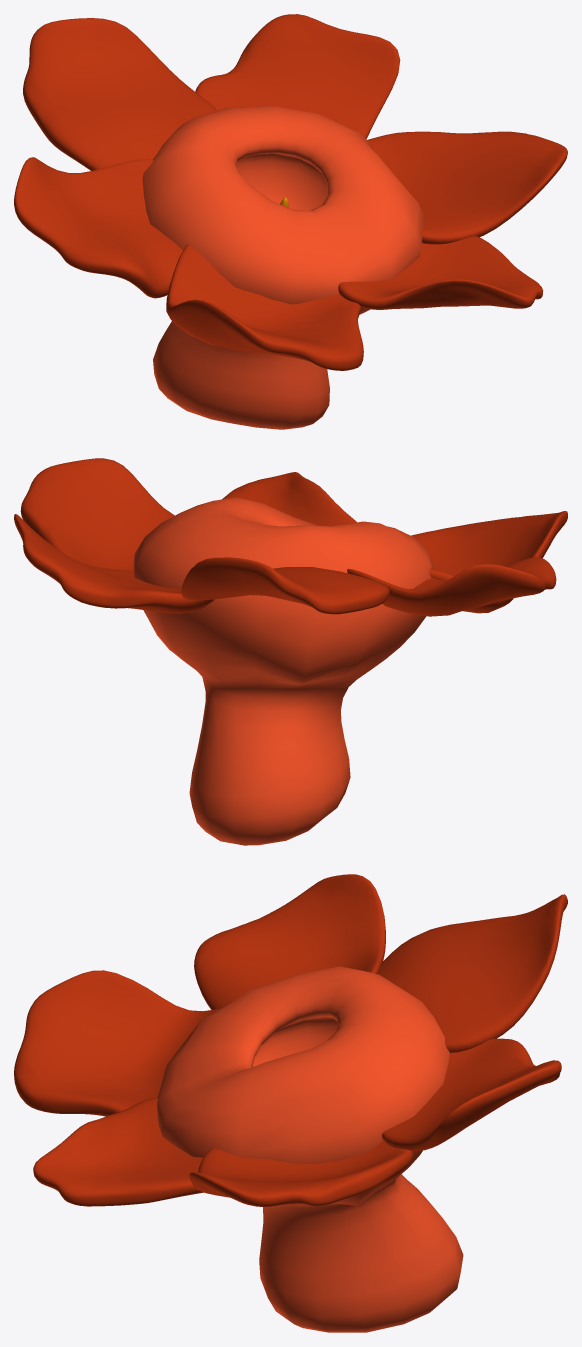
The model's file is SunStonePlant.fbx.
3 views of the same model, one above another, from view 1: azimuth 30°, elevation 25°; view 2: azimuth 150°, elevation 25°; view 3: azimuth 270°, elevation 25° (orthographic). The views are drawn at different scales.
Parts seen in each view (by area): view 1: Pedel, Pod; view 2: Pod, Pedel; view 3: Pedel, Pod.
Boxes of the visible parts, box(x1,y1,x2,y2) form: Pedel: box(14, 14, 567, 370); Pod: box(142, 105, 424, 429); Pod: box(132, 497, 434, 845); Pedel: box(14, 458, 567, 616); Pedel: box(14, 874, 567, 1206); Pod: box(156, 966, 463, 1332).
Size of the model in its own units: 6.06 by 3.91 by 5.31.
